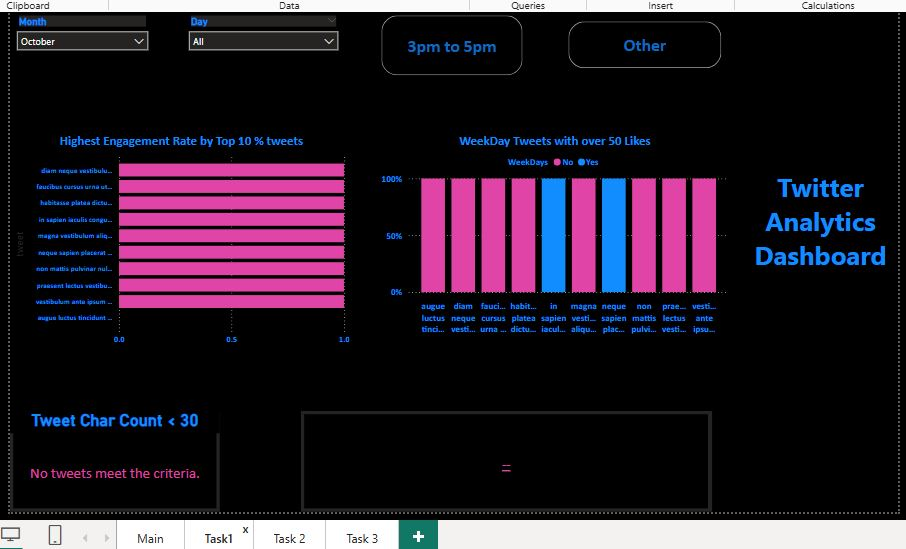

Layout of this report page (visuals, bound fields, positions):
{"tool":"powerbi","page":{"name":"Task1","canvas":[1280,720],"ordinal":1},"visuals":[{"type":"slicer","fields":{"Values":["SocialMedia (1).Day"]},"box":[247.7,0,234.7,105.1],"z":0},{"type":"textbox","box":[1054.1,0,226.1,720],"z":1000},{"type":"clusteredBarChart","title":"Highest Engagement Rate by Top 10 % tweets","fields":{"Y":["SocialMedia (1).EngagementRate_Measure"],"Category":["SocialMedia (1).tweet"]},"box":[0,172.8,493.9,313.9],"z":2000},{"type":"hundredPercentStackedColumnChart","title":"WeekDay Tweets with over 50 Likes","fields":{"Category":["SocialMedia (1).tweet"],"Series":["SocialMedia (1).WeekDays"],"Y":["CountNonNull(SocialMedia (1).NoOfLikes)"]},"box":[529.9,172.8,509.8,301],"z":3000},{"type":"cardVisual","title":"Tweet Char Count < 30","fields":{"Data":["SocialMedia (1).ShortTweetMessage"]},"box":[0,574.6,302.4,145.4],"z":4000},{"type":"slicer","fields":{"Values":["SocialMedia (1).MonthName"]},"box":[0,0,208.8,105.1],"z":5000},{"type":"advancedSlicerVisual","fields":{"Values":["SocialMedia (1).TweetHour"]},"box":[529.9,0,213.1,96.5],"z":6000},{"type":"cardVisual","title":"Tweet Char Count < 30","fields":{"Data":["SocialMedia (1).TimeBasedMessage"]},"box":[419,574.6,591.8,145.4],"z":7000},{"type":"advancedSlicerVisual","fields":{"Values":["SocialMedia (1).TweetHour"]},"box":[799.2,8.6,230.4,77.8],"z":8000}]}

Visuals, with their boxes on the page's 1280x720 design canvas (x1, y1, x2, y2). These are canvas units, not pixel positions in the 906x549 screenshot, which may show the page scaled, cropped or inside an application window:
slicer - SocialMedia (1).Day: <region>248, 0, 482, 105</region>
textbox: <region>1054, 0, 1280, 720</region>
"Highest Engagement Rate by Top 10 % tweets" clusteredBarChart: <region>0, 173, 494, 487</region>
"WeekDay Tweets with over 50 Likes" hundredPercentStackedColumnChart: <region>530, 173, 1040, 474</region>
"Tweet Char Count < 30" cardVisual: <region>0, 575, 302, 720</region>
slicer - SocialMedia (1).MonthName: <region>0, 0, 209, 105</region>
advancedSlicerVisual - SocialMedia (1).TweetHour: <region>530, 0, 743, 96</region>
"Tweet Char Count < 30" cardVisual: <region>419, 575, 1011, 720</region>
advancedSlicerVisual - SocialMedia (1).TweetHour: <region>799, 9, 1030, 86</region>
